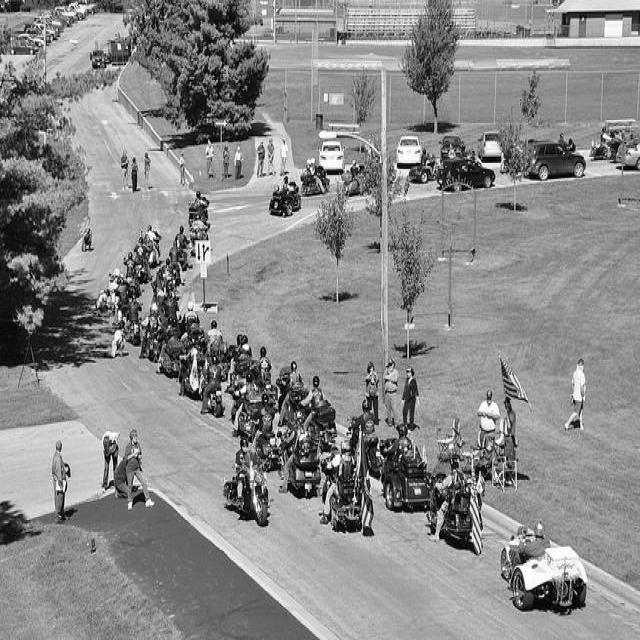vehicle: (222, 457, 269, 528), (320, 453, 362, 531), (279, 433, 323, 498), (58, 0, 103, 62), (225, 379, 264, 440), (527, 141, 586, 181), (347, 416, 381, 478), (437, 157, 496, 191), (187, 202, 211, 249), (178, 357, 204, 399), (257, 430, 281, 472), (160, 336, 184, 377), (317, 139, 345, 173), (615, 135, 640, 171), (203, 376, 222, 418), (396, 135, 422, 165), (477, 131, 501, 163), (439, 135, 463, 163), (124, 310, 140, 347), (3, 39, 39, 55), (147, 231, 161, 268), (36, 19, 61, 36), (145, 332, 159, 362), (26, 30, 51, 46), (38, 14, 64, 29), (37, 19, 61, 35), (16, 34, 44, 47), (55, 8, 77, 24), (90, 49, 106, 69), (79, 0, 99, 14)
